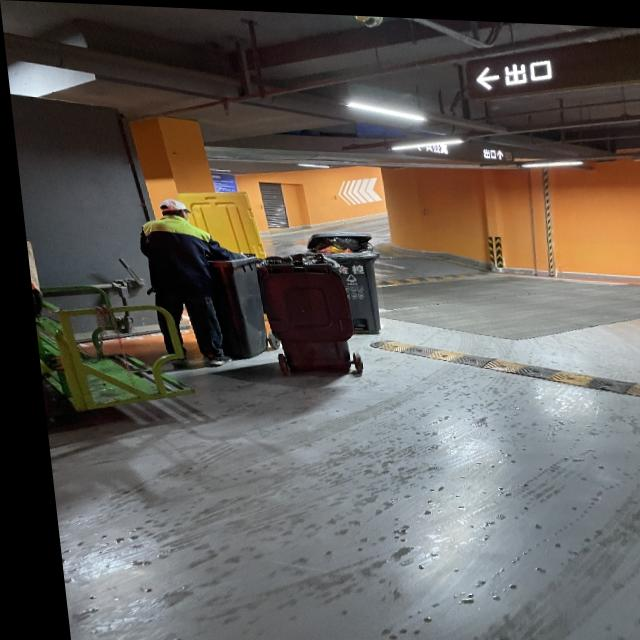garbage_bin: (197, 246, 264, 358)
overflow: (250, 250, 349, 369), (298, 227, 380, 330)
